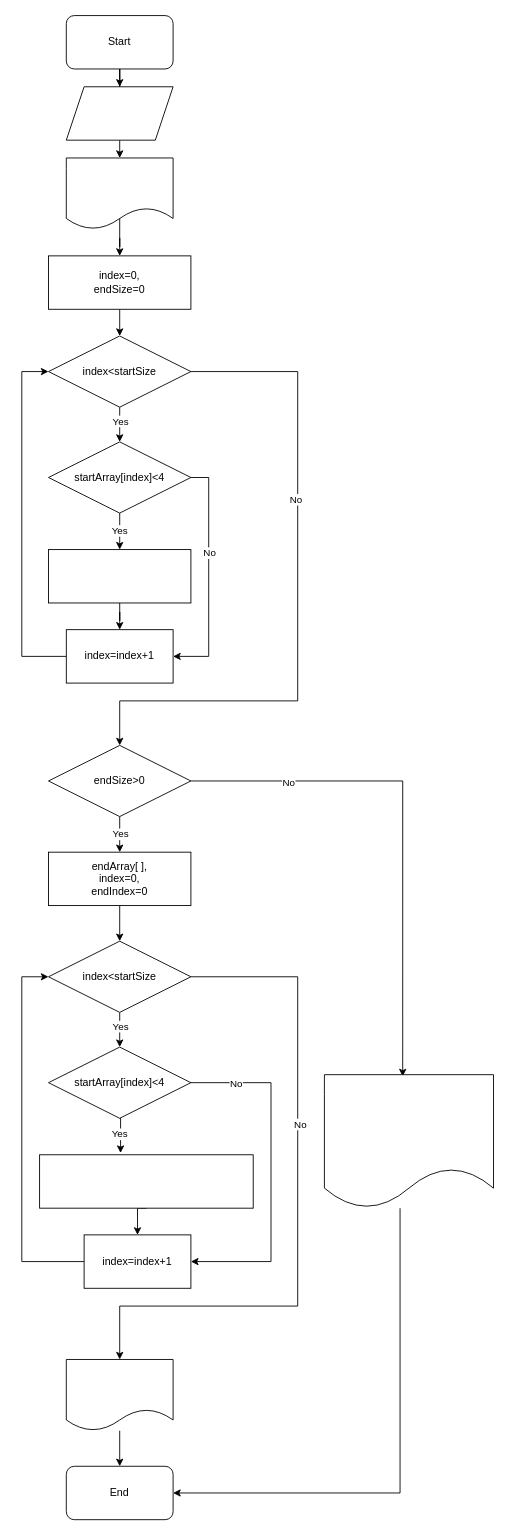
This 509x1535 diagram has some shape labels left out. The centre of each missing label's shape, as x and y in pixels:
endArray[endIndex]=startArray[index], endIndex=endIndex+1: pixel 146 1181
endSize=endSize+1: pixel 119 576
print( "Не найдено элементов с длиной строки меньше 4 символов" ): pixel 409 1141
print(endArray[]): pixel 119 1395
print(startArray[]): pixel 119 193
startArray[ ], startSize: pixel 119 113
